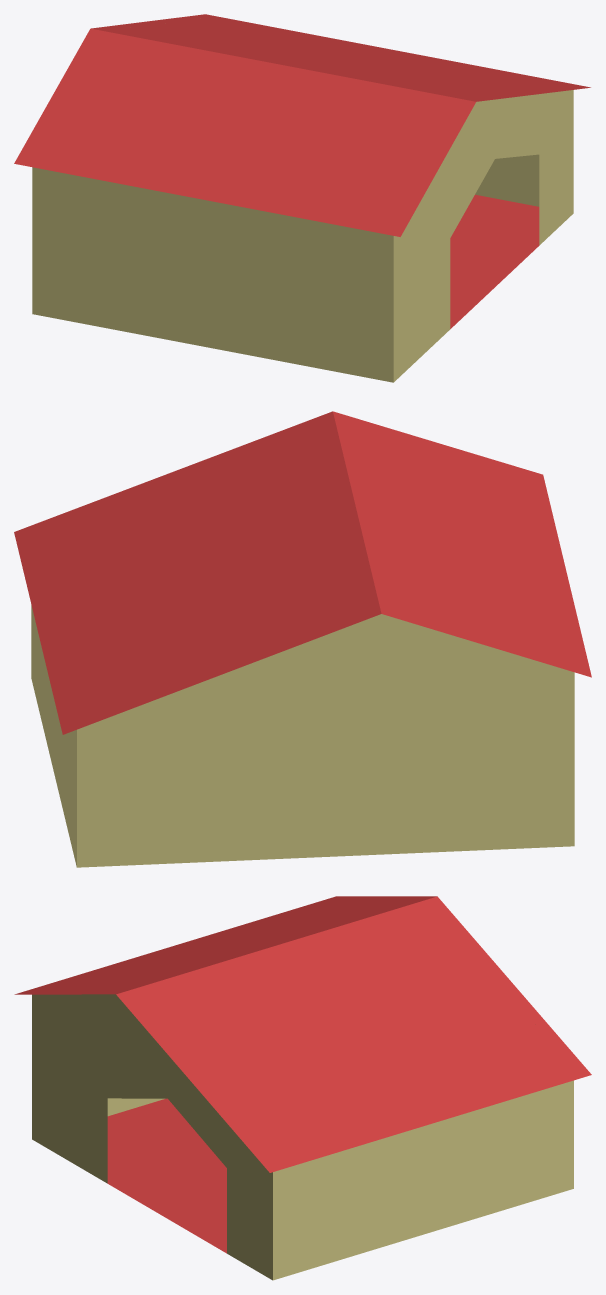
The picture shows the model from 3 angles, top to bottom: view 1: azimuth 30°, elevation 25°; view 2: azimuth 150°, elevation 25°; view 3: azimuth 270°, elevation 25°; orthographic projection. The views are drawn at different scales.
Size of the model in its own units: 34.02 by 33.49 by 13.
